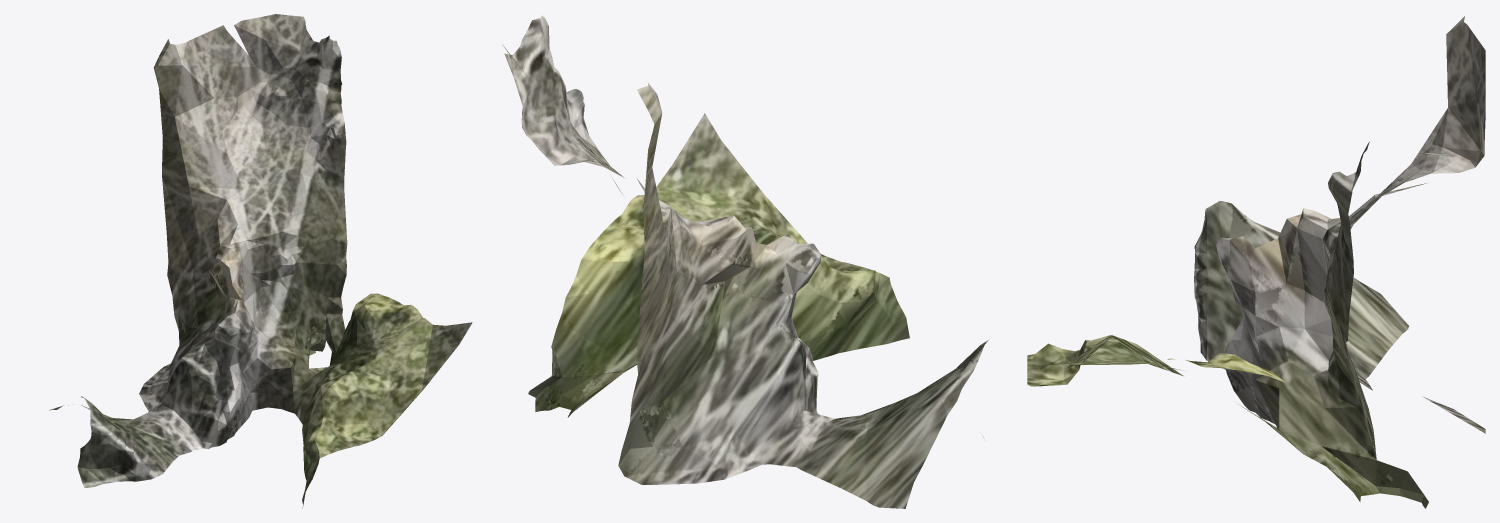
3 views of the same model, side by side, from view 1: azimuth 30°, elevation 25°; view 2: azimuth 150°, elevation 25°; view 3: azimuth 270°, elevation 25° (orthographic). The views are drawn at different scales.
Bounding box in the file's own units: 5.9 × 5.9 × 5.9.
4 materials, 4 textured.
